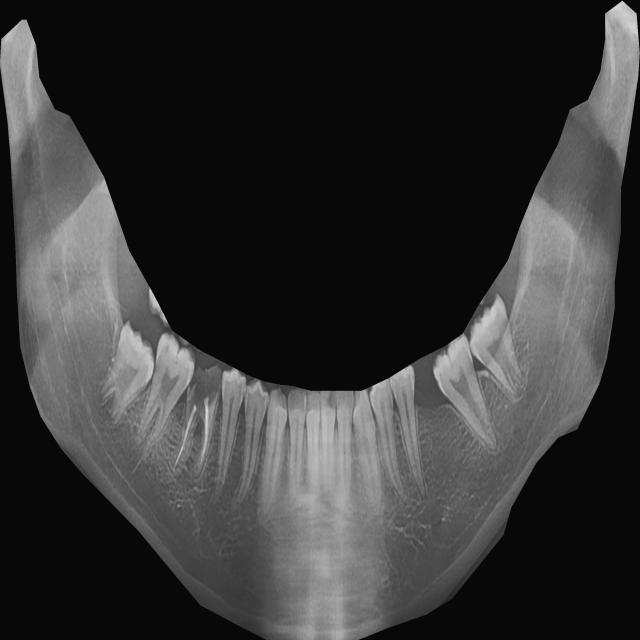mandibula: (0, 1, 640, 640)
